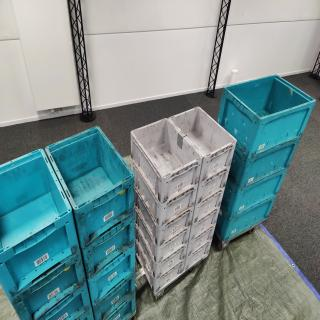Box8G: (128, 119, 204, 208), (168, 107, 238, 185), (131, 159, 202, 230), (134, 207, 193, 266), (131, 201, 196, 248), (135, 227, 190, 281), (136, 240, 187, 295), (197, 165, 234, 206), (193, 187, 227, 227), (190, 205, 222, 245), (188, 223, 219, 260), (185, 239, 215, 273)
BoxB4: (218, 74, 319, 160), (235, 132, 303, 192), (220, 167, 290, 220), (215, 195, 279, 242)
BoxB8: (1, 148, 80, 302), (46, 125, 136, 250), (8, 251, 88, 317), (82, 217, 138, 281), (91, 245, 139, 310), (92, 274, 138, 320), (38, 281, 91, 320), (109, 295, 143, 320)
